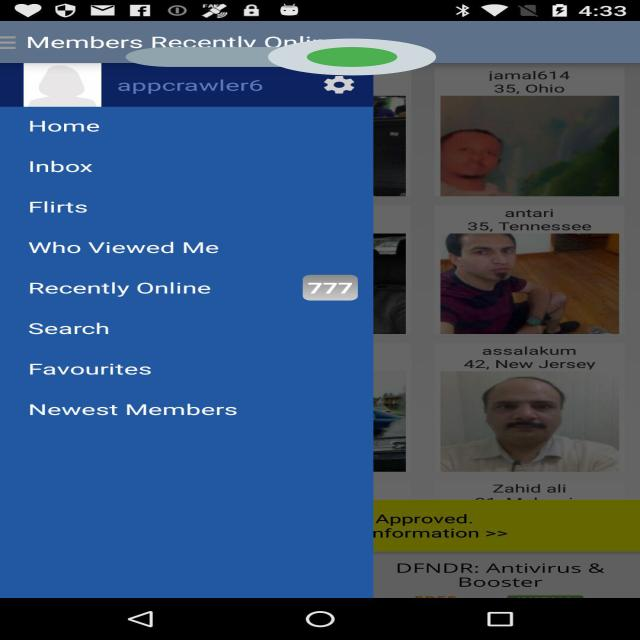social proof: (126, 23, 436, 91)
